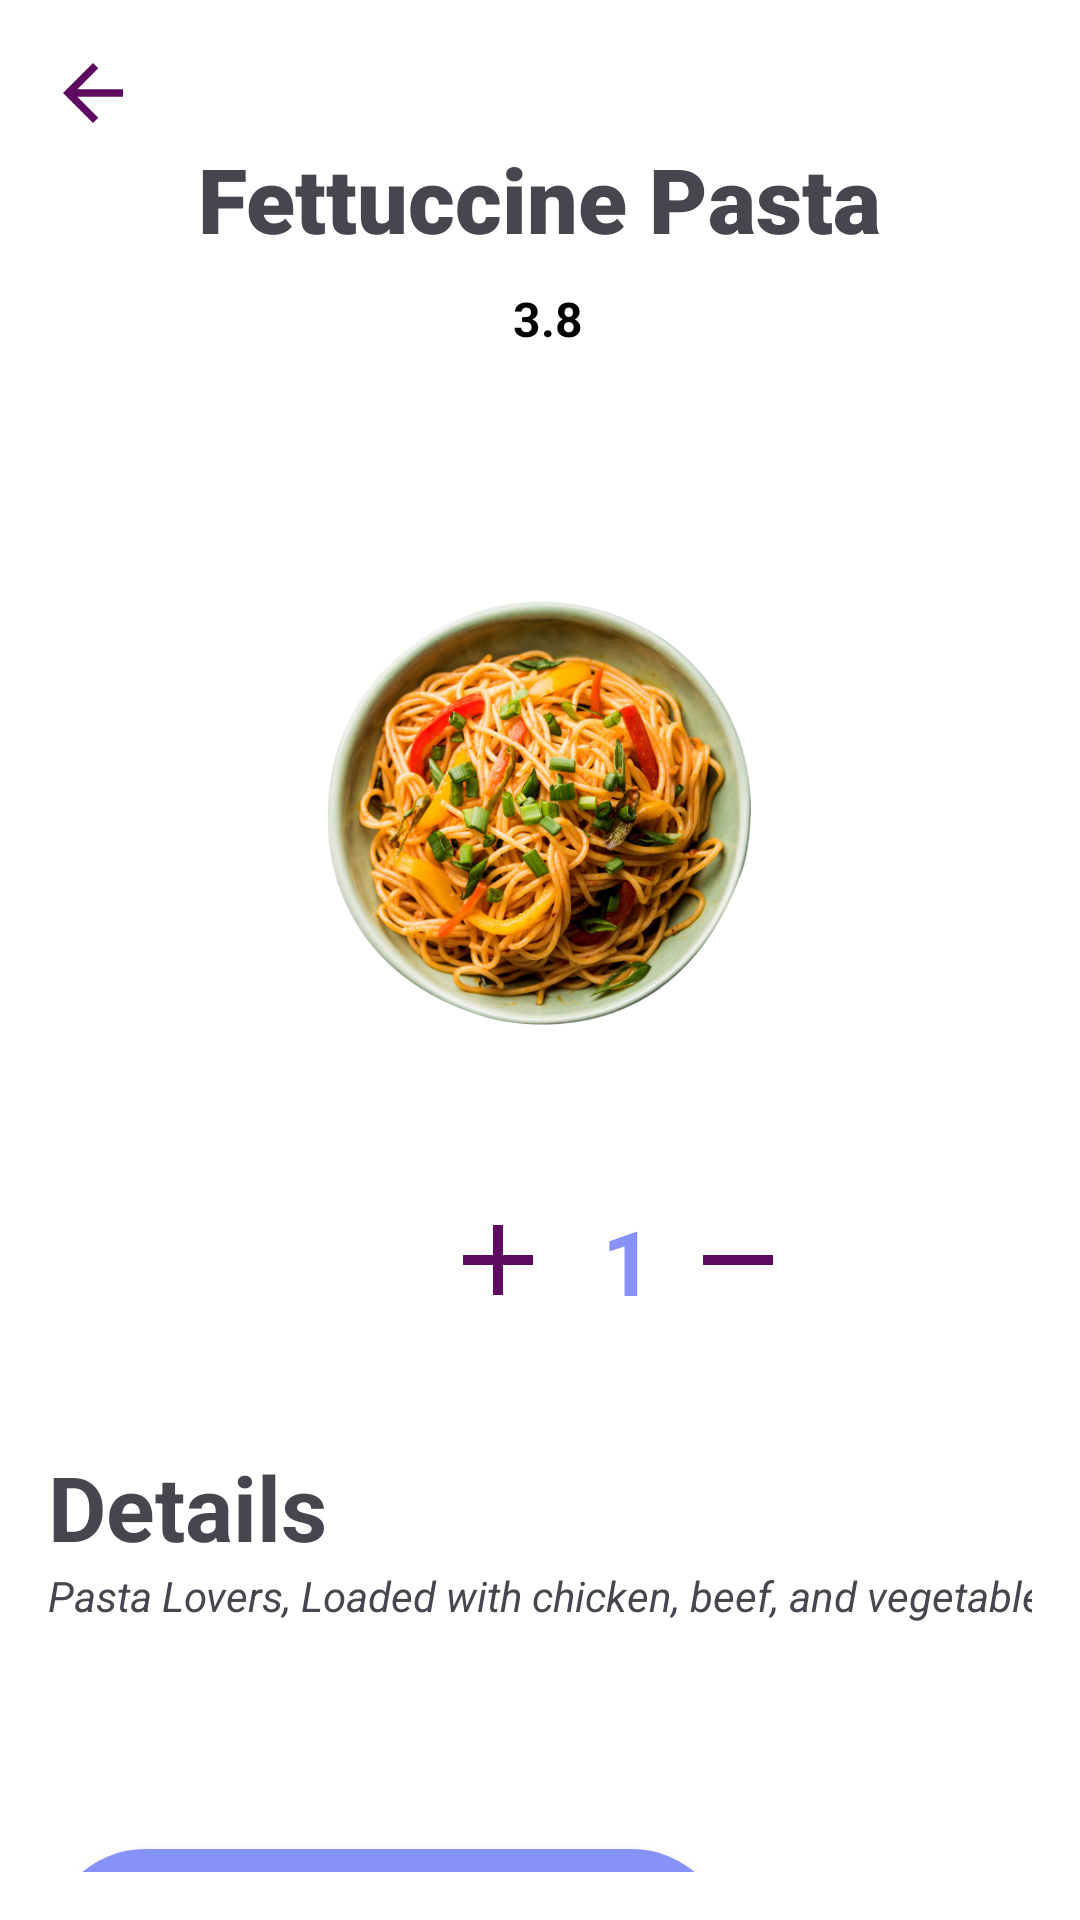

Icon click points for this 1080px×1920px phone screenshot, format [x,y]:
add: [498,1260]
